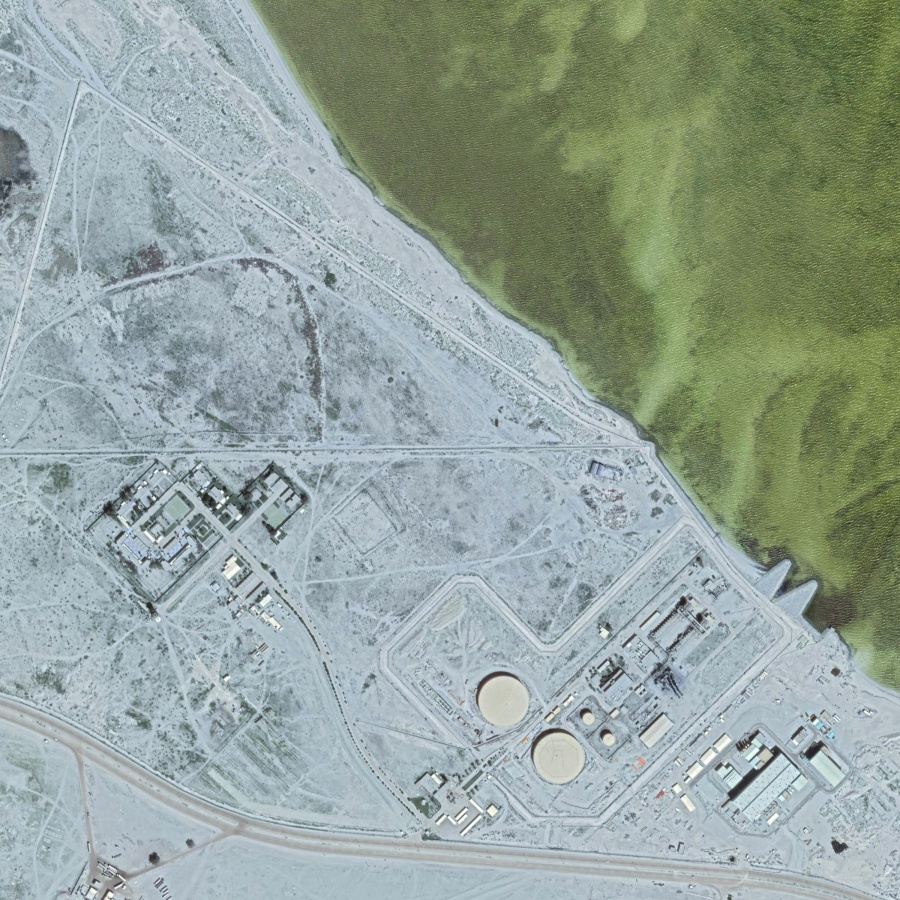PowerPlant: (455, 566, 860, 853)
